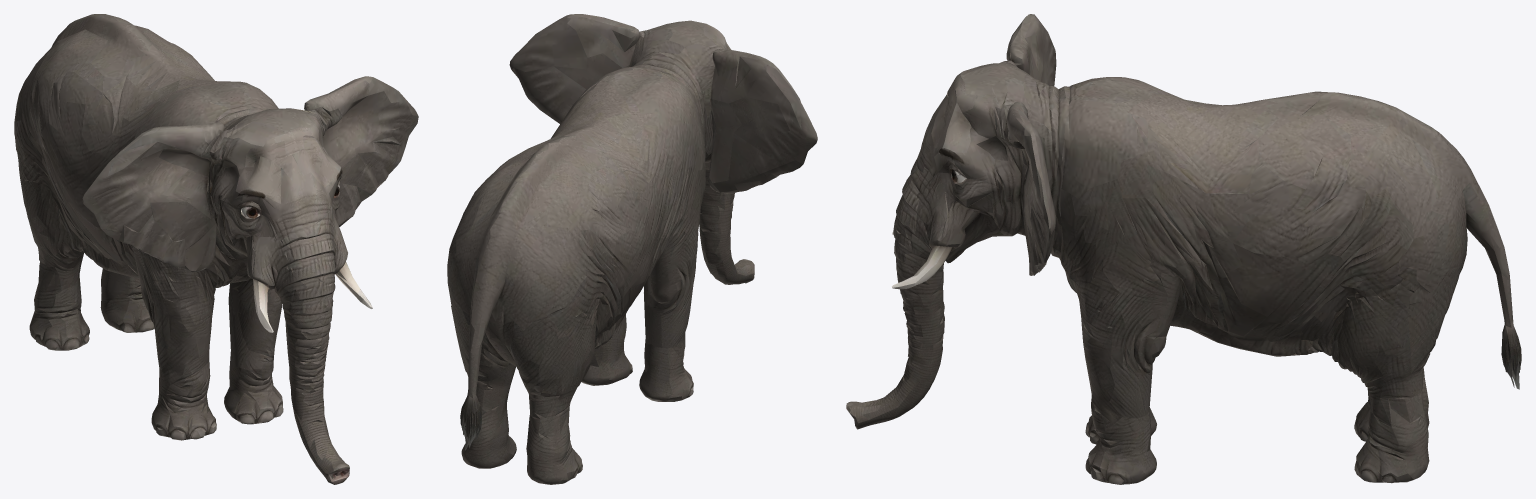
Rendered from elephant.glb.
3 views of the same model, side by side, from view 1: azimuth 30°, elevation 25°; view 2: azimuth 150°, elevation 25°; view 3: azimuth 270°, elevation 25° (orthographic). The views are drawn at different scales.
Bounding box in the file's own units: 1.2 × 1.19 × 1.9.
Materials: 1 (1 with a texture image).
